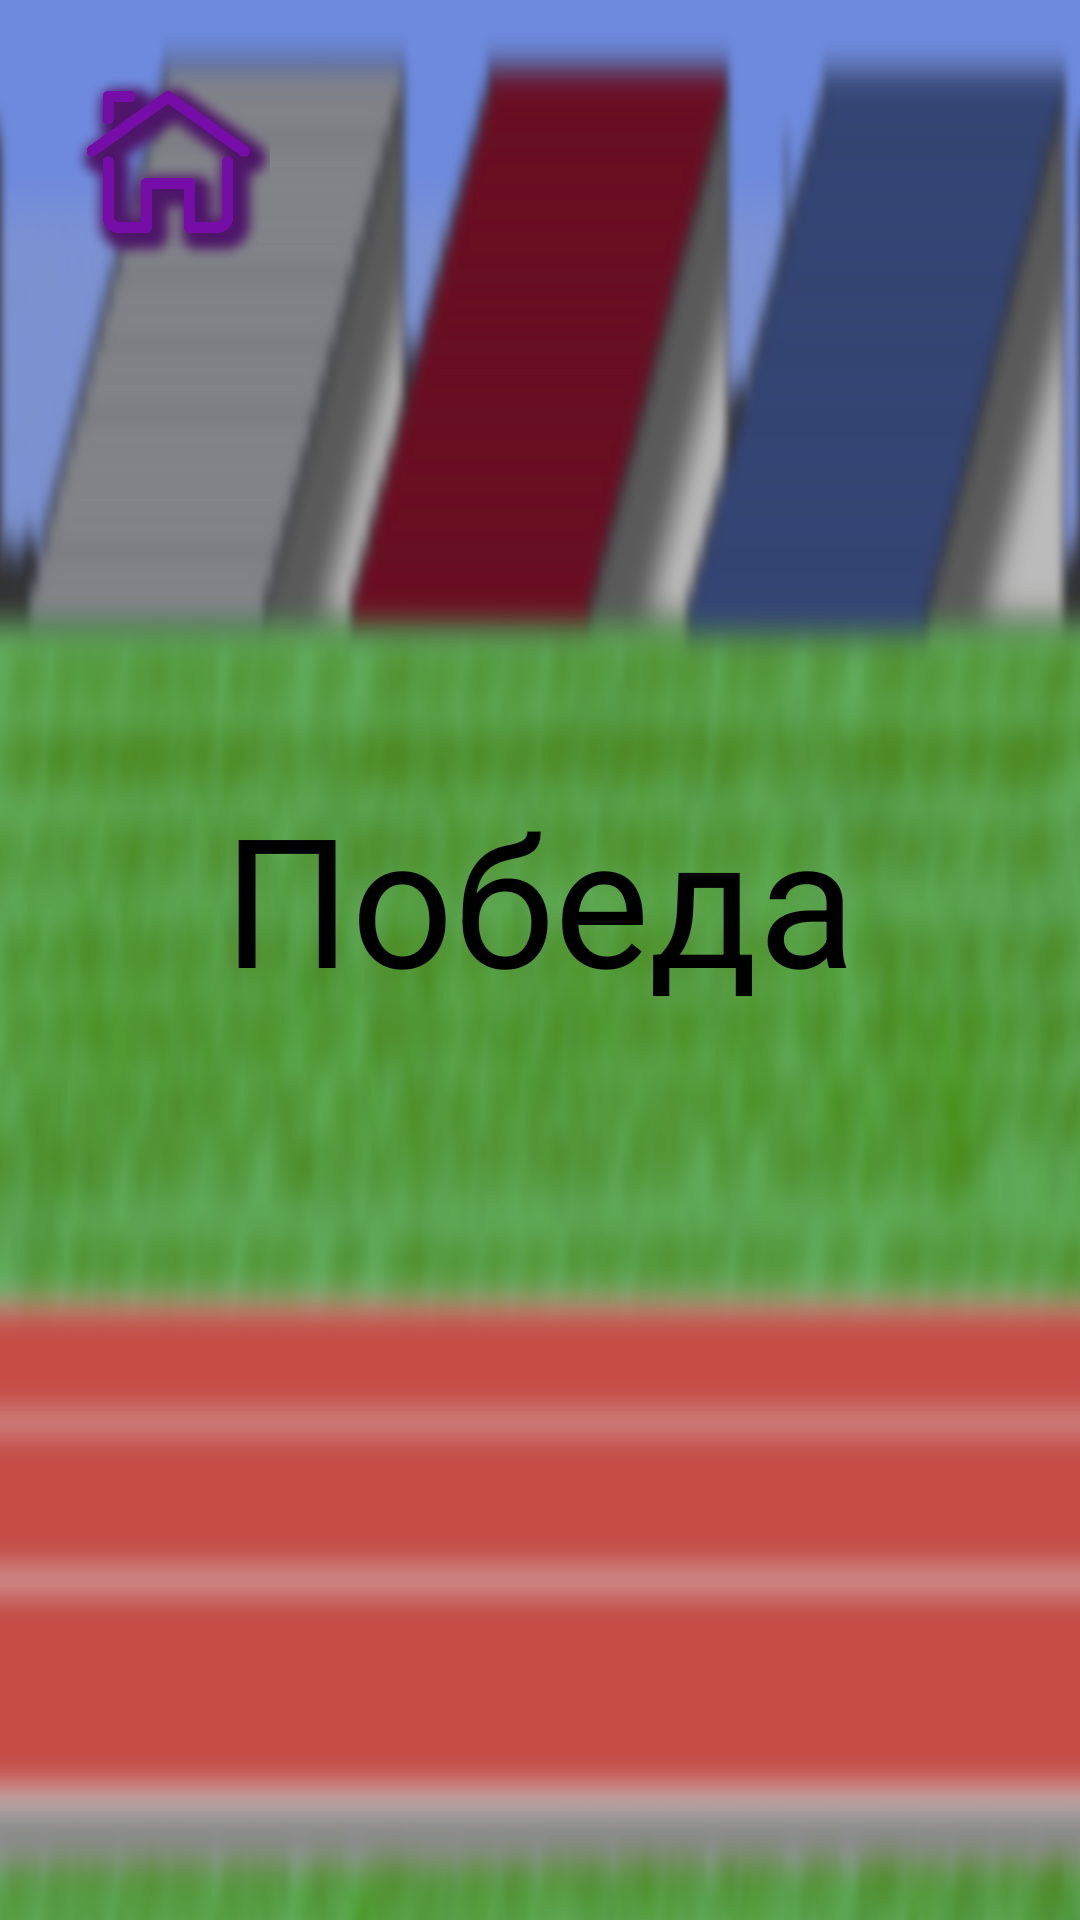

Where to tap for icons on this 1080 × 1920 app screen, as (x=x, y=y):
gotomenu: (x=168, y=162)
